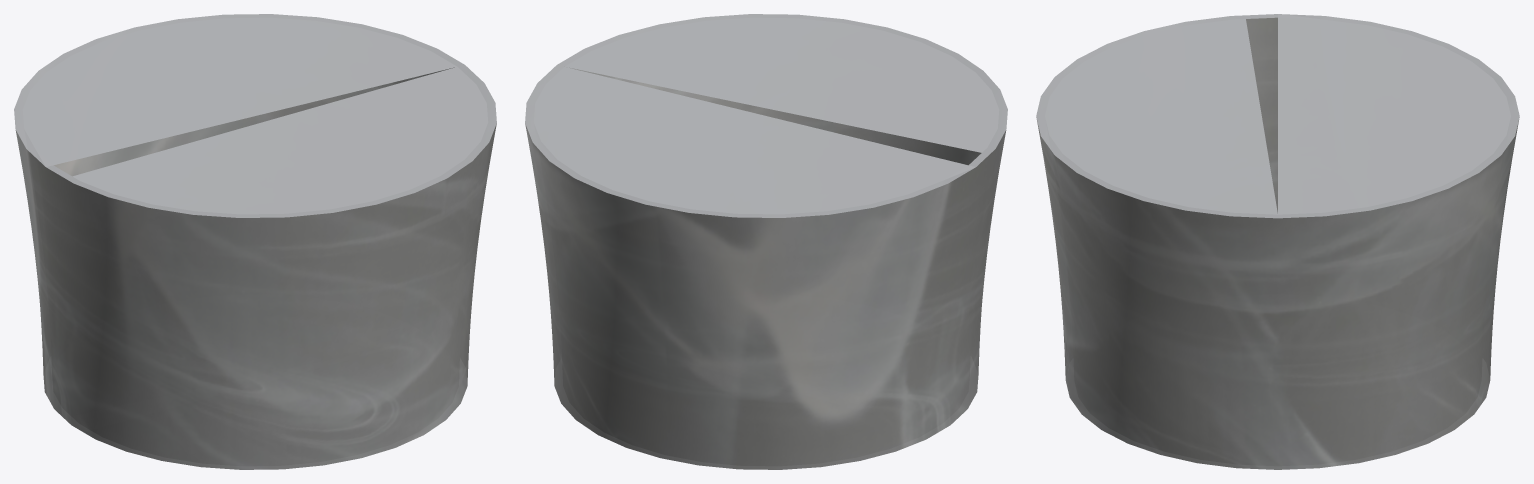
Rendered from pot-ar2.fbx.
The picture shows the model from 3 angles, left to right: view 1: azimuth 30°, elevation 25°; view 2: azimuth 150°, elevation 25°; view 3: azimuth 270°, elevation 25°; orthographic projection.
Visible parts, largest first — view 1: pot; view 2: pot; view 3: pot.
Part boxes in pixels (x1,y1,x2,y2): pot: [14, 14, 496, 469]; pot: [525, 14, 1007, 469]; pot: [1036, 14, 1519, 469].
Bounding box in the file's own units: 11.23 × 6.76 × 11.23.
